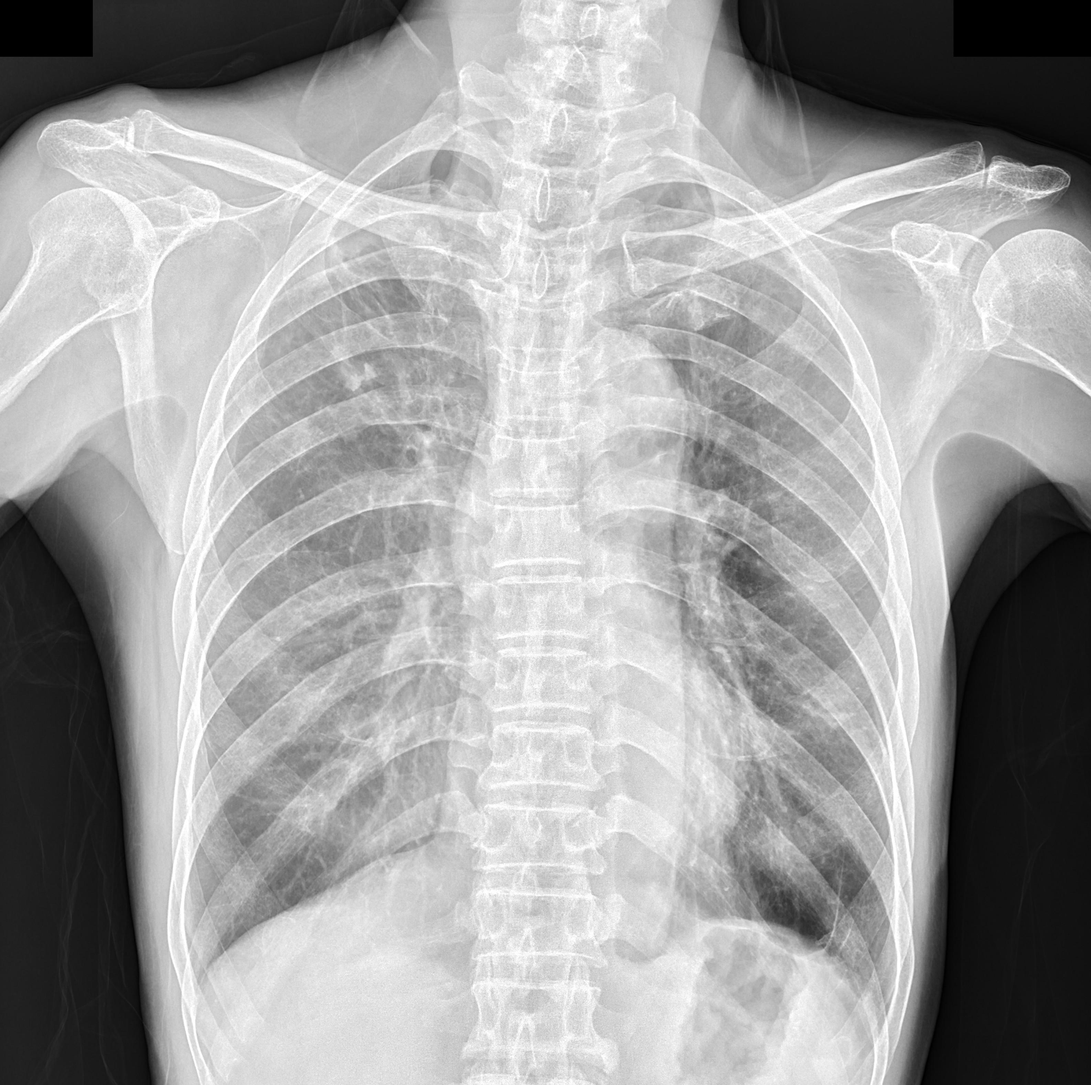Aortic enlargement: (560, 332, 698, 489)
Pulmonary fibrosis: (316, 237, 450, 451)
